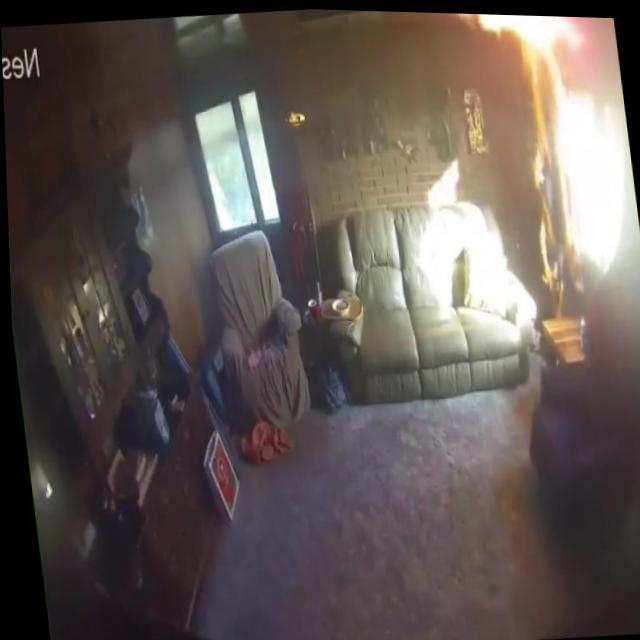fire: (512, 67, 570, 307), (450, 10, 590, 73)
